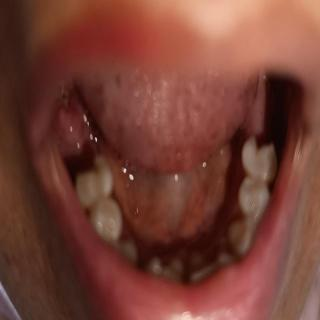cavities: (239, 122, 282, 179), (74, 151, 118, 195)
